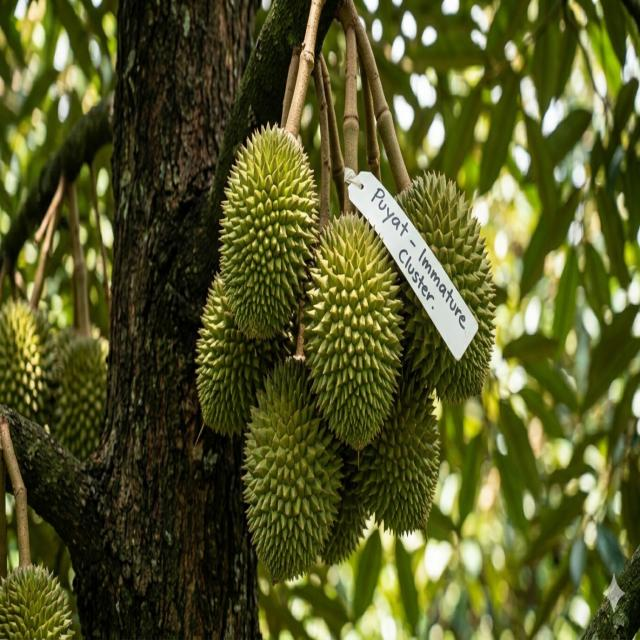immature: (395, 167, 499, 405), (304, 212, 407, 448), (242, 354, 346, 583), (217, 121, 321, 343), (356, 369, 443, 538), (194, 275, 270, 439), (51, 331, 108, 458), (0, 296, 55, 426), (0, 560, 74, 636)
